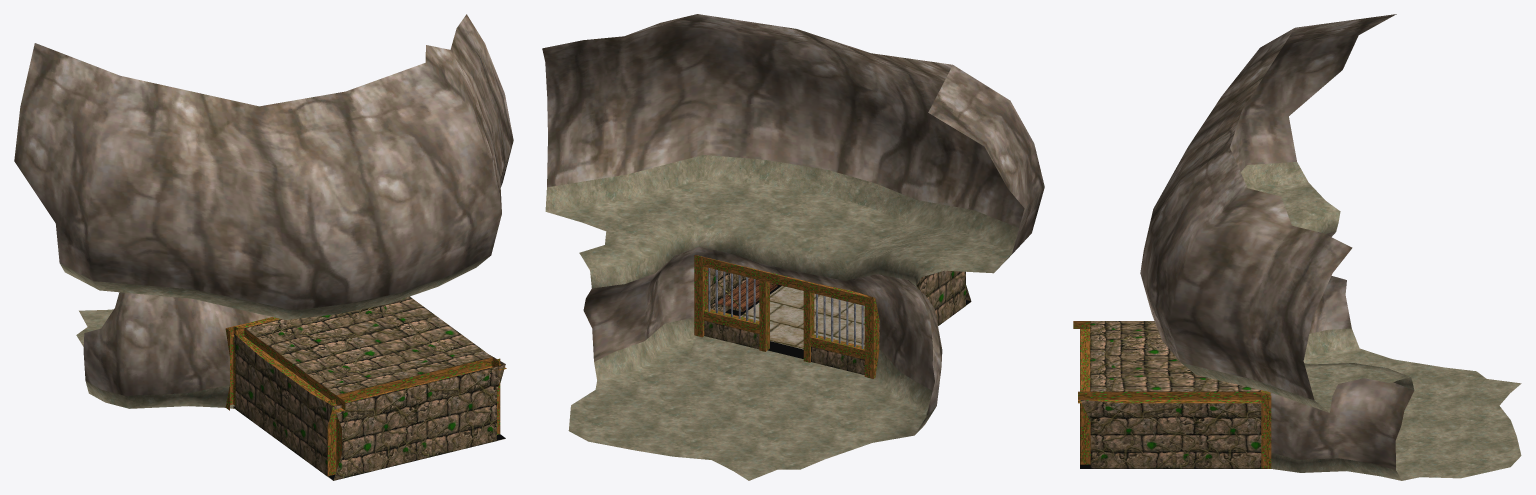
The model's file is CH7_ELVESCAPTUREBILBO_JAILSET.fbx.
3 views of the same model, side by side, from view 1: azimuth 30°, elevation 25°; view 2: azimuth 150°, elevation 25°; view 3: azimuth 270°, elevation 25° (orthographic). The views are drawn at different scales.
Parts seen in each view (by area): view 1: CH7_ELVESCAPTUREBILBO_JAILSET; view 2: CH7_ELVESCAPTUREBILBO_JAILSET; view 3: CH7_ELVESCAPTUREBILBO_JAILSET.
Boxes of the visible parts, <box> form: CH7_ELVESCAPTUREBILBO_JAILSET: <box>14,14,513,480</box>; CH7_ELVESCAPTUREBILBO_JAILSET: <box>542,14,1044,480</box>; CH7_ELVESCAPTUREBILBO_JAILSET: <box>1073,14,1521,480</box>.
Size of the model in its own units: 138645 by 95346 by 121401.
12 materials, 12 textured.
